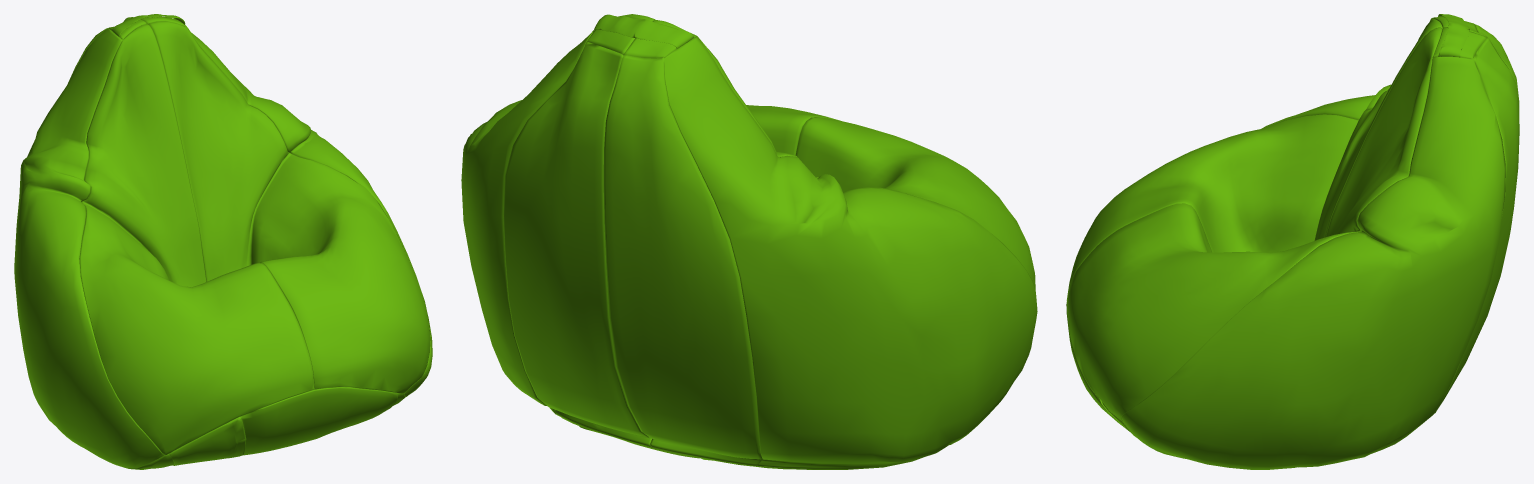
3 renders of one model, left to right at view 1: azimuth 30°, elevation 25°; view 2: azimuth 150°, elevation 25°; view 3: azimuth 270°, elevation 25°, orthographic. The views are drawn at different scales.
Parts seen in each view (by area): view 1: consolidatedNode; view 2: consolidatedNode; view 3: consolidatedNode.
Part boxes in pixels (left/top/right/bottom): consolidatedNode: left=14, top=14, right=432, bottom=469; consolidatedNode: left=461, top=14, right=1037, bottom=469; consolidatedNode: left=1066, top=14, right=1519, bottom=469.
Size of the model in its own units: 1.07 by 0.9901 by 1.07.
